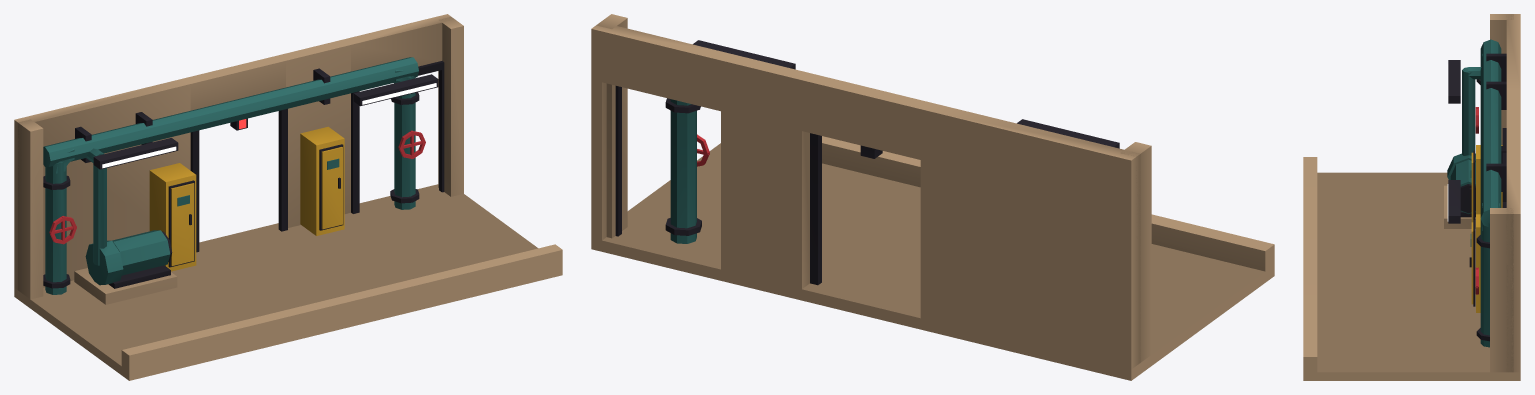
3 views of the same model, side by side, from view 1: azimuth 30°, elevation 25°; view 2: azimuth 150°, elevation 25°; view 3: azimuth 270°, elevation 25° (orthographic). The views are drawn at different scales.
Visible parts, largest first — view 1: body_pal_khakiLight, body_pal_backpackTeal, body_pal_uiDark, body_pal_schoolBusYellow, body_pal_survivorRed, body_emi_picketWhite; view 2: body_pal_khakiLight, body_pal_uiDark, body_pal_backpackTeal; view 3: body_pal_khakiLight, body_pal_backpackTeal, body_pal_uiDark, body_pal_schoolBusYellow, body_pal_survivorRed.
Part boxes in pixels (bbox=[...]): body_pal_khakiLight: bbox=[14, 14, 562, 380]; body_pal_backpackTeal: bbox=[43, 57, 418, 294]; body_pal_uiDark: bbox=[43, 61, 444, 288]; body_pal_schoolBusYellow: bbox=[149, 126, 344, 271]; body_pal_survivorRed: bbox=[49, 130, 425, 244]; body_emi_picketWhite: bbox=[102, 83, 436, 168]; body_pal_khakiLight: bbox=[591, 14, 1274, 380]; body_pal_uiDark: bbox=[615, 40, 1119, 285]; body_pal_backpackTeal: bbox=[670, 99, 696, 243]; body_pal_khakiLight: bbox=[1303, 14, 1520, 380]; body_pal_backpackTeal: bbox=[1447, 39, 1501, 347]; body_pal_uiDark: bbox=[1448, 53, 1506, 341]; body_pal_schoolBusYellow: bbox=[1471, 145, 1502, 312]; body_pal_survivorRed: bbox=[1475, 107, 1478, 294].
Size of the model in its own units: 10 by 3.9 by 4.6.
